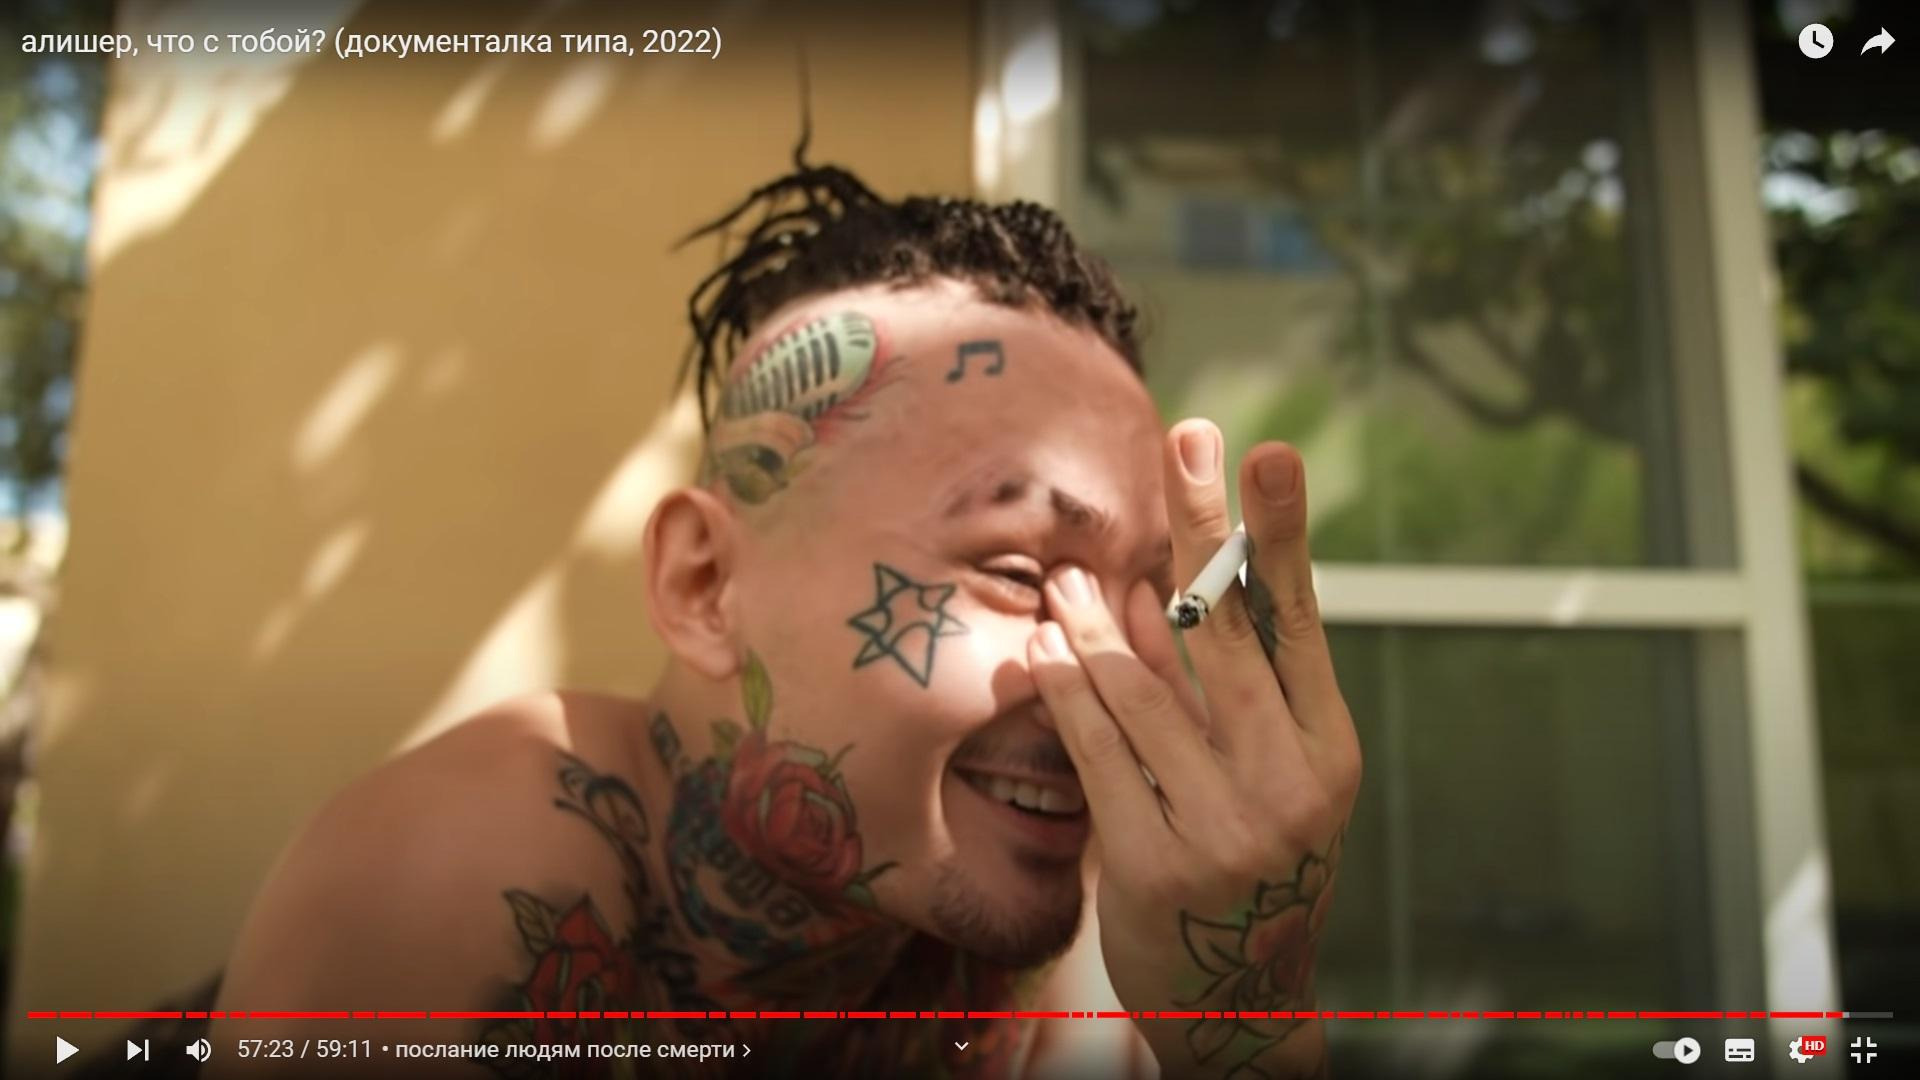cigarette: (1166, 525, 1249, 630)
